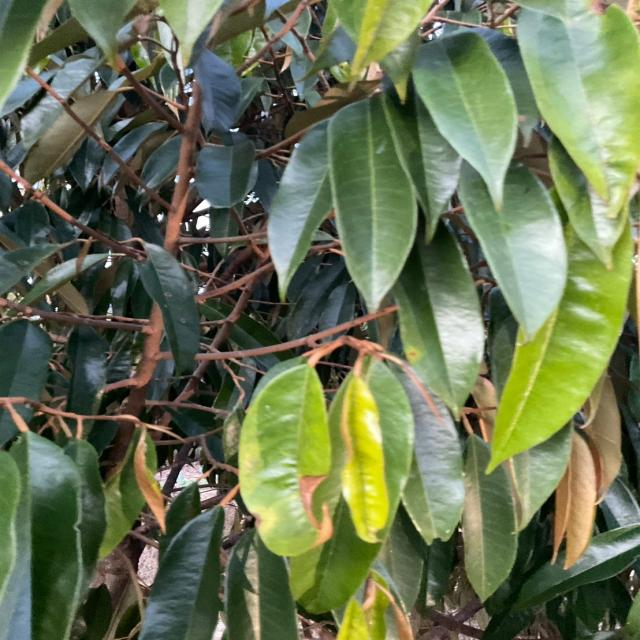Leaf Blight: (239, 369, 335, 557), (137, 431, 164, 532)
Leaf Spot: (407, 344, 422, 363)
